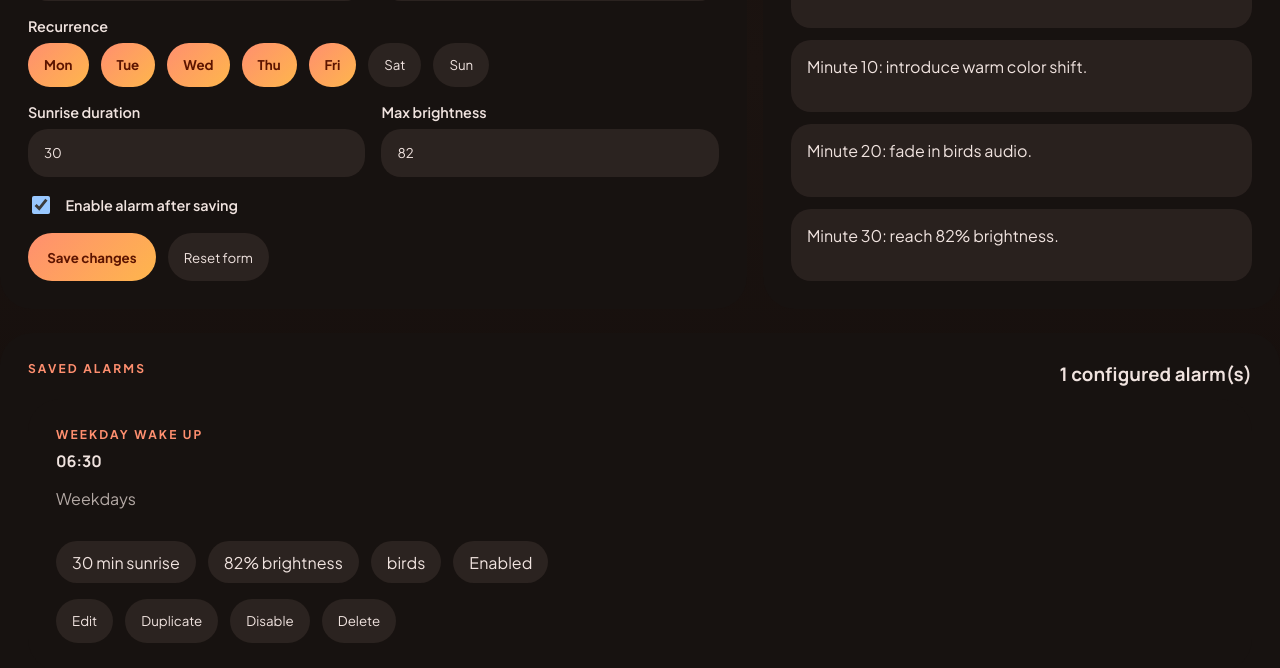
Test: AlarmsPage › duplicates an alarm
The width and height of the screenshot is (1280, 668).
(page scrolled)
Click the button "Duplicate".
click(172, 621)  # box [125,599,218,643]
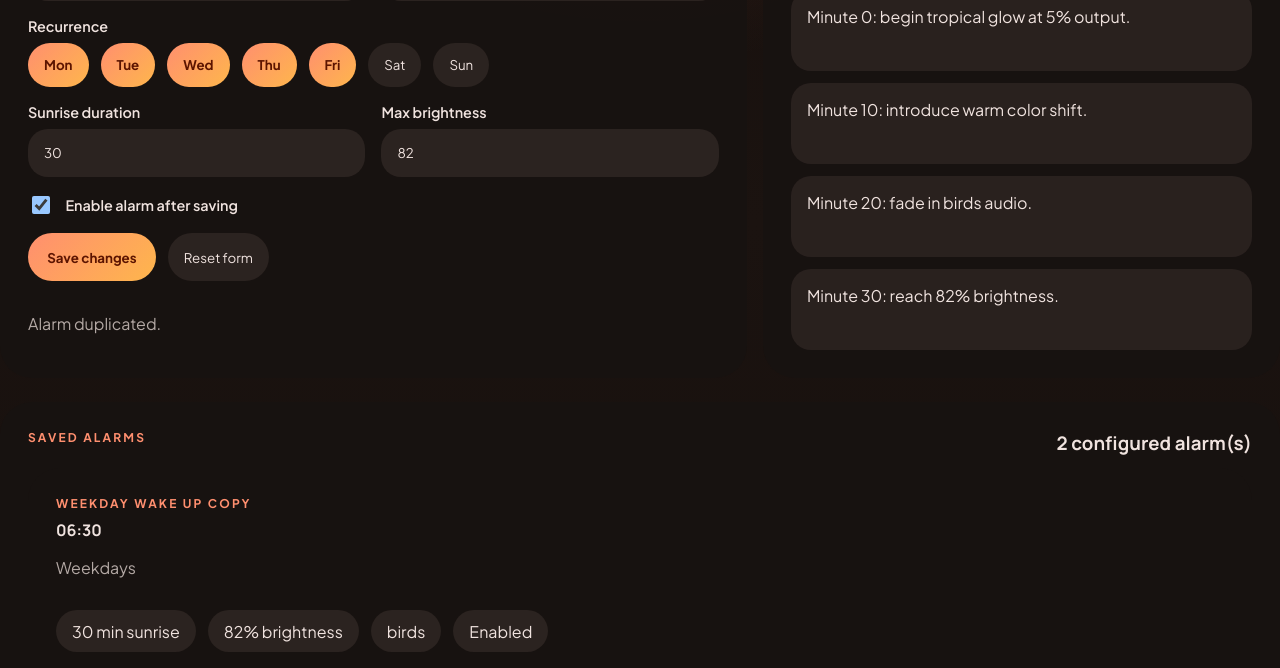
Expected: the message reads "Alarm duplicated.", [28,313,161,334]
